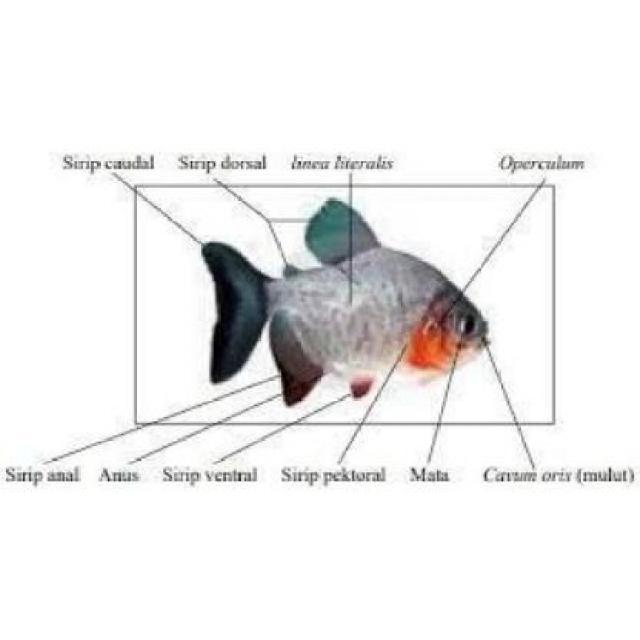ikan-pacu: (208, 234, 494, 390)
